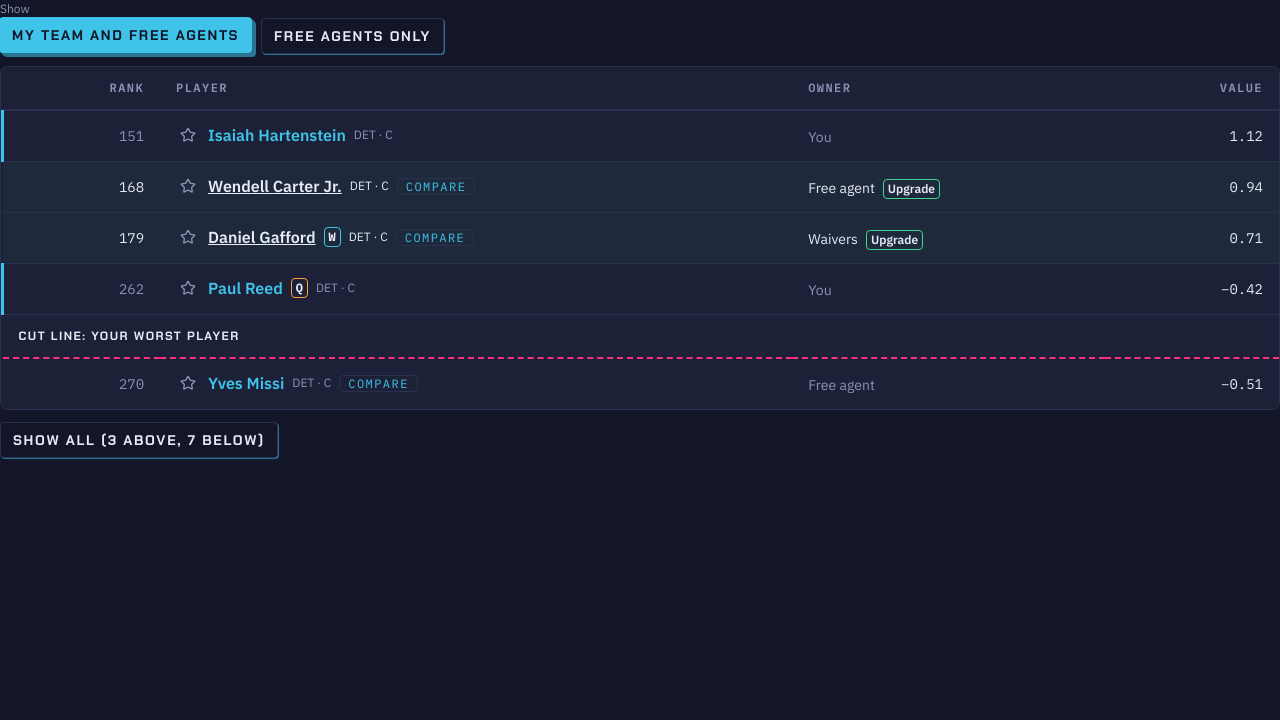
CutLinePanel sorting › windows a long sorted list and shows more on request
Click the button "Value": (1233, 88) [1204,79,1263,97]
(page scrolled)
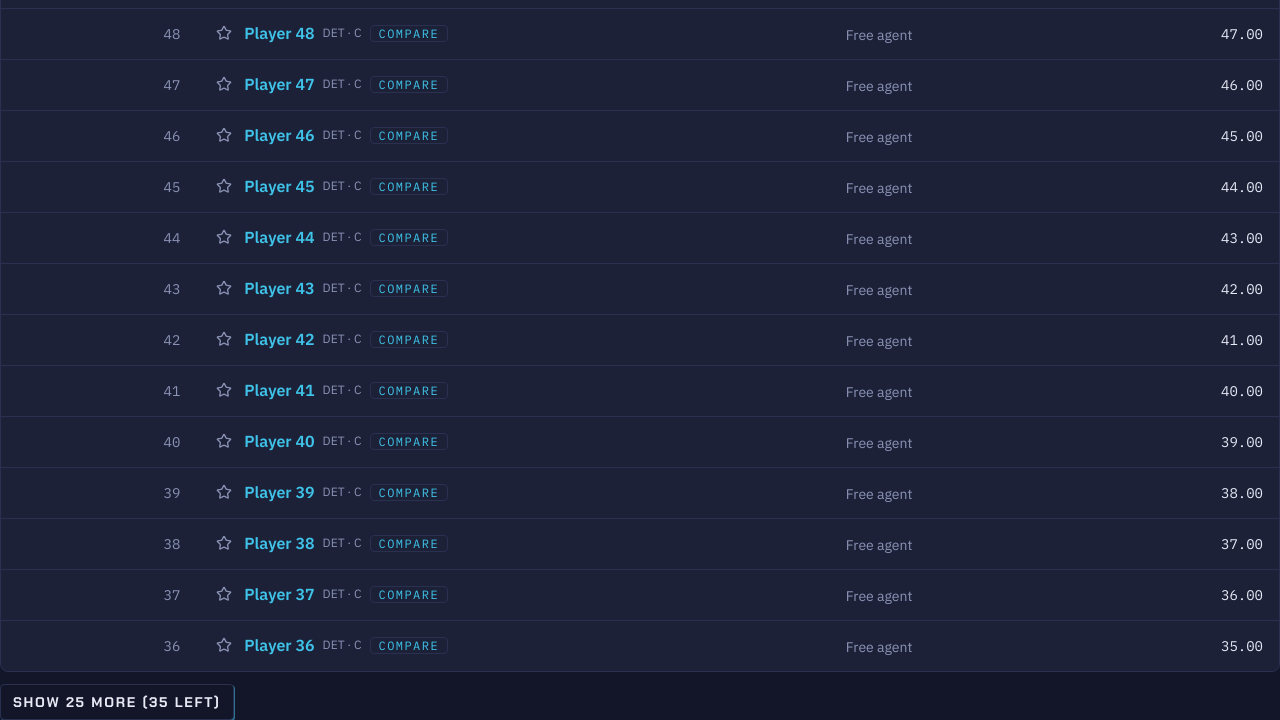
Click the button "Show 25 more (35 left)": (117, 702) [0,684,234,719]
(page scrolled)
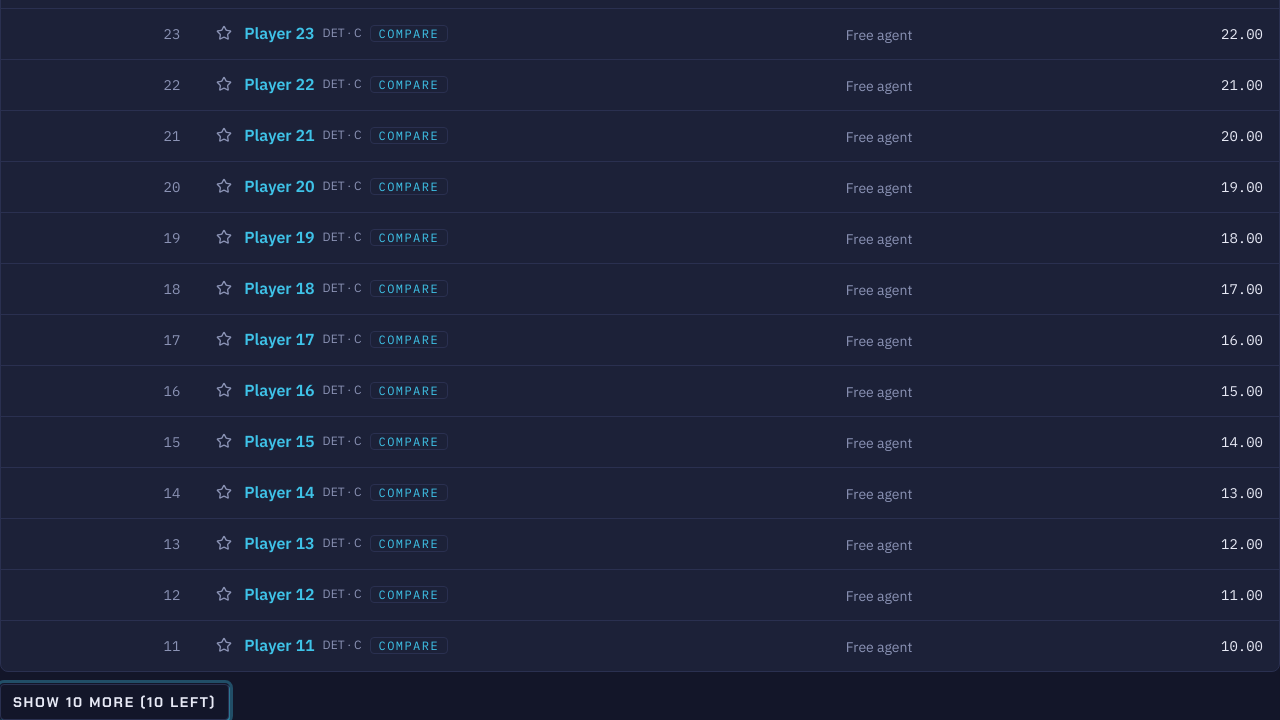
Click the button "Show 10 more (10 left)": (115, 702) [0,684,229,719]
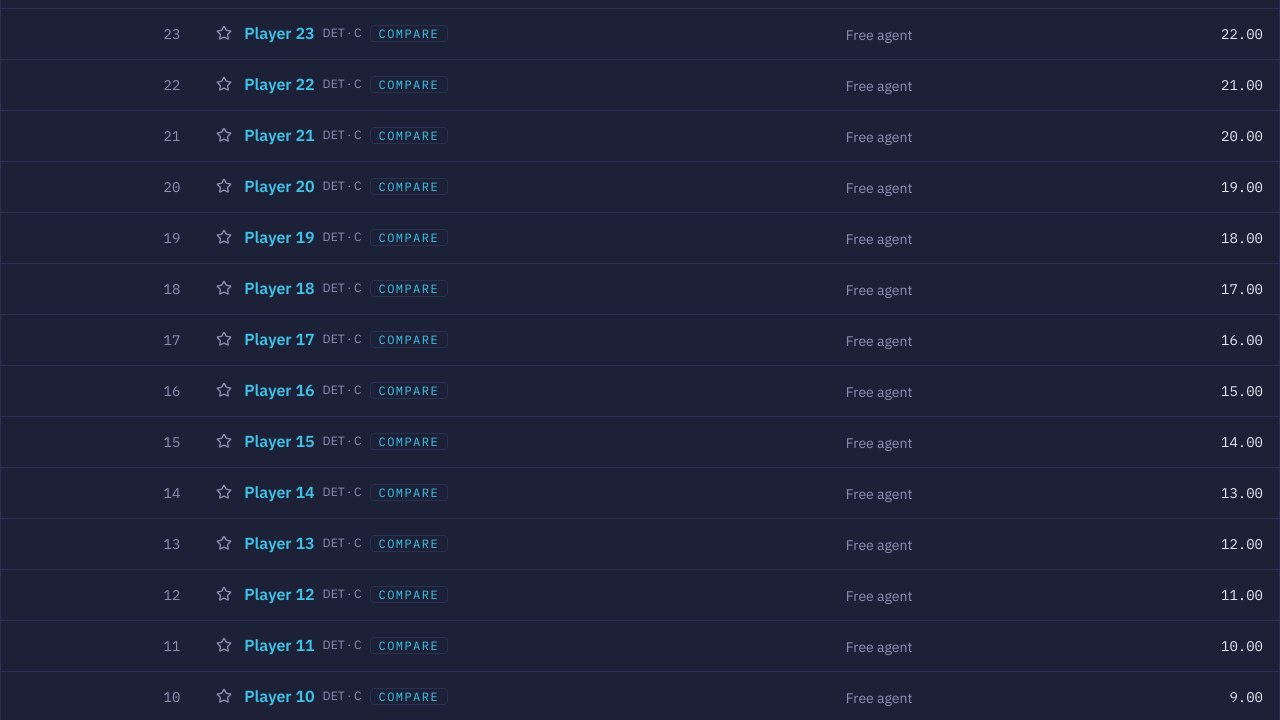
Result: the button "more" is gone
